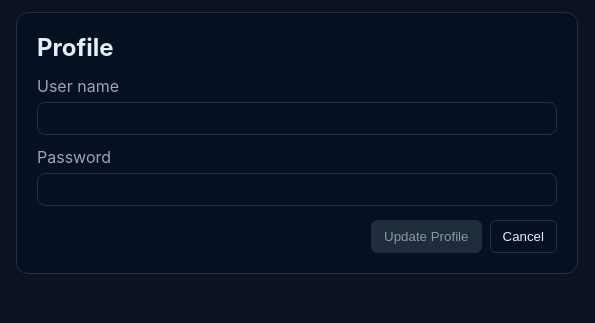
Scenario: ProfileComponent › Submits update, shows success, and redirects to dashboard
Step 1. Type "  alice-updated  " into the field labelled "User name" → (297, 118), box [37,102,557,135]
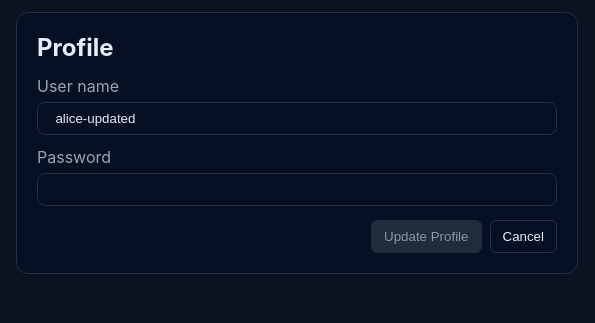
Step 2. Type "secret123" into the password field labelled "Password" → (297, 190), box [37,173,557,206]
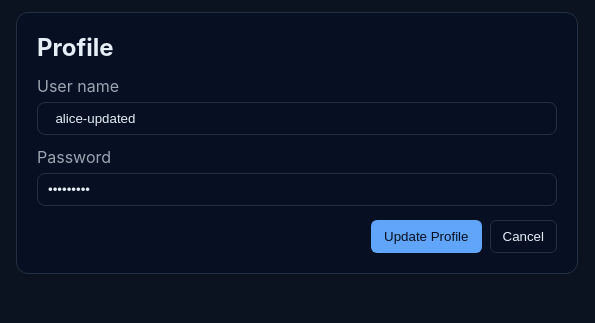
Step 3. Click the button "Update Profile" → (426, 236), box [371,220,482,253]
Wait 900 ms
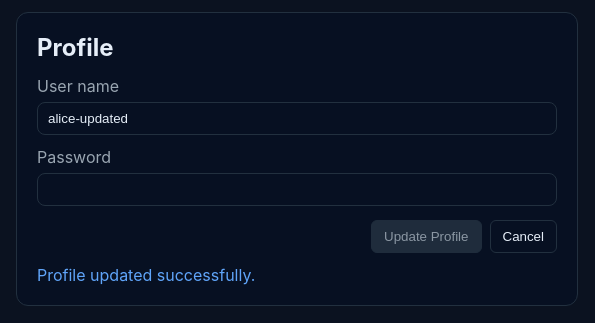
Check: the text "Profile updated successfully." is shown, box [37,265,255,285]
Check: the password field labelled "Password" is empty, box [37,173,557,206]
